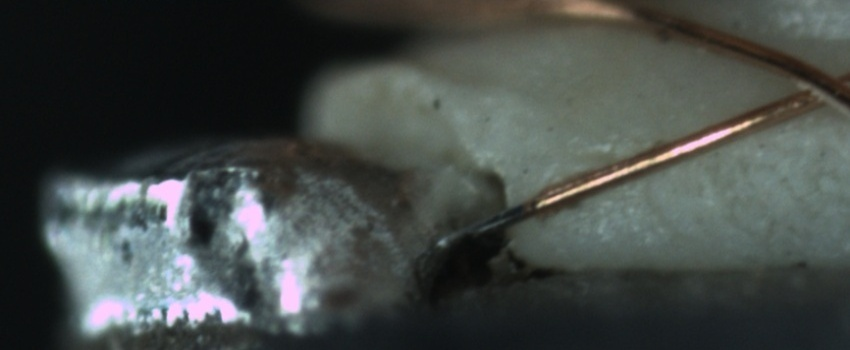CL: (769, 55, 850, 119)
TS: (434, 201, 531, 247)
